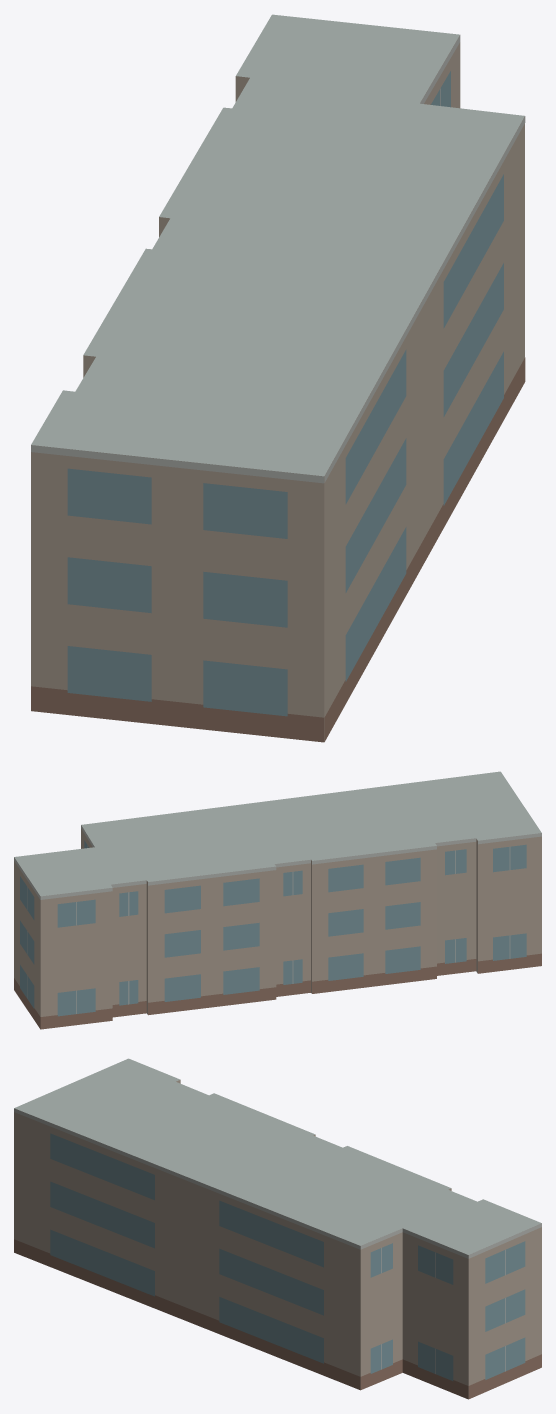
Rendered from survey-upis-33040827.glb.
3 views of the same model, one above another, from view 1: azimuth 30°, elevation 25°; view 2: azimuth 150°, elevation 25°; view 3: azimuth 270°, elevation 25° (orthographic). The views are drawn at different scales.
Parts seen in each view (by area): view 1: survey-upis-33040827.tmp; view 2: survey-upis-33040827.tmp; view 3: survey-upis-33040827.tmp.
Part boxes in pixels (x1,y1,x2,y2): survey-upis-33040827.tmp: (31,14,525,742); survey-upis-33040827.tmp: (14,771,541,1029); survey-upis-33040827.tmp: (14,1058,541,1399).
Bounding box in the file's own units: 26.73 × 9.15 × 30.32.
